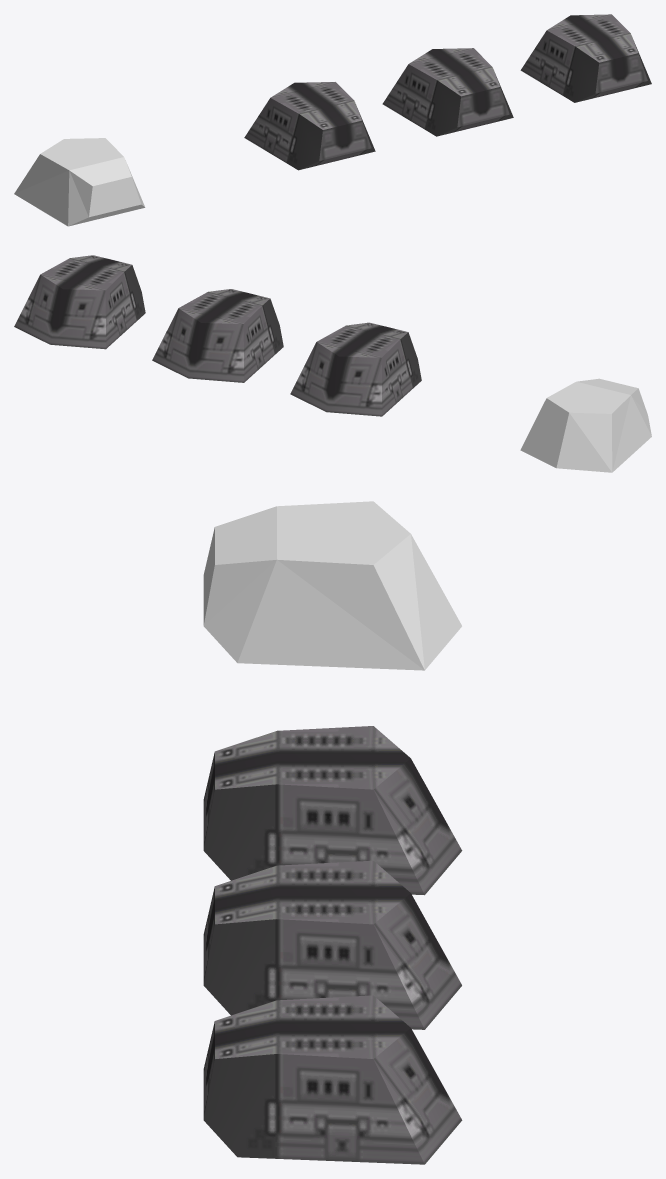
The model's file is ksh_sec_destroyerturret.dae.
3 renders of one model, top to bottom at view 1: azimuth 30°, elevation 25°; view 2: azimuth 150°, elevation 25°; view 3: azimuth 270°, elevation 25°, orthographic. The views are drawn at different scales.
Parts seen in each view (by area): view 1: MULT[turret]_LOD[0], MULT[turret]_LOD[1], COL[Root], MULT[turret]_LOD[2]; view 2: COL[Root], MULT[turret]_LOD[1], MULT[turret]_LOD[0], MULT[turret]_LOD[2]; view 3: MULT[turret]_LOD[2], COL[Root], MULT[turret]_LOD[1], MULT[turret]_LOD[0].
Part boxes in pixels (left/top/right/bottom): MULT[turret]_LOD[0]: left=244, top=82, right=375, bottom=170; MULT[turret]_LOD[1]: left=382, top=48, right=513, bottom=136; COL[Root]: left=14, top=138, right=145, bottom=226; MULT[turret]_LOD[2]: left=520, top=14, right=651, bottom=102; COL[Root]: left=520, top=378, right=651, bottom=472; MULT[turret]_LOD[1]: left=152, top=289, right=283, bottom=382; MULT[turret]_LOD[0]: left=290, top=322, right=421, bottom=416; MULT[turret]_LOD[2]: left=14, top=255, right=145, bottom=349; MULT[turret]_LOD[2]: left=203, top=995, right=462, bottom=1164; COL[Root]: left=203, top=501, right=461, bottom=670; MULT[turret]_LOD[1]: left=203, top=860, right=461, bottom=1029; MULT[turret]_LOD[0]: left=203, top=726, right=462, bottom=895.
Size of the model in its own units: 114 by 8.4 by 21.33.
4 materials, 4 textured.
